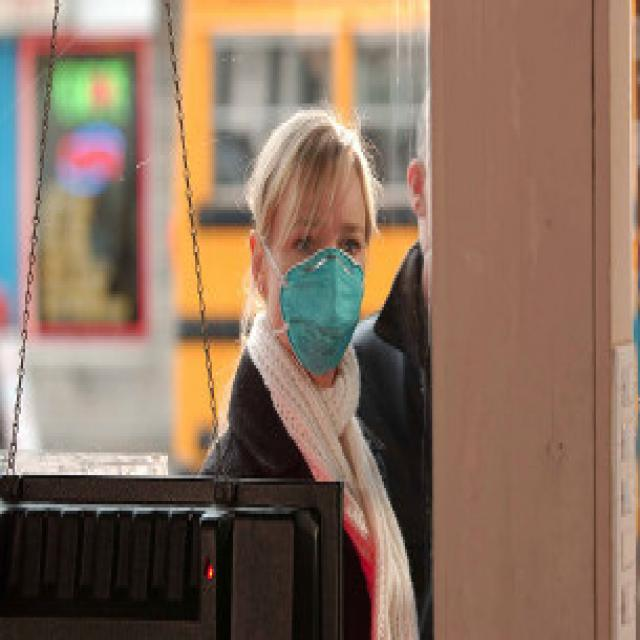mask: (267, 195, 363, 367)
